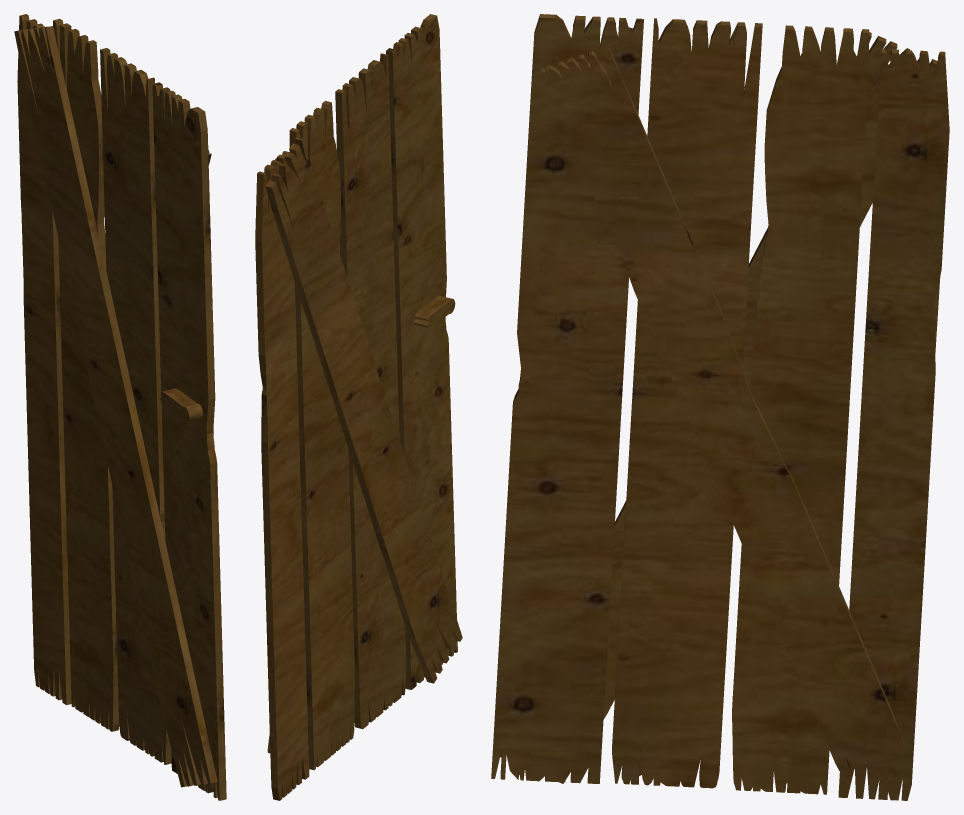
File: AW3WLU7BDZ5XMZGFCD0ARZBYW.gltf
3 renders of one model, left to right at view 1: azimuth 30°, elevation 25°; view 2: azimuth 150°, elevation 25°; view 3: azimuth 270°, elevation 25°, orthographic. The views are drawn at different scales.
Bounding box in the file's own units: 0.1047 × 2.5 × 1.33.
2 materials, 2 textured.
